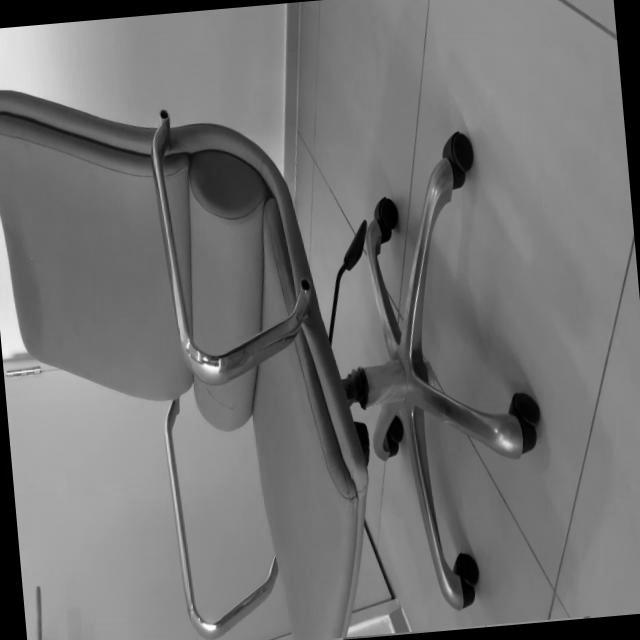chair: (0, 35, 561, 640)
